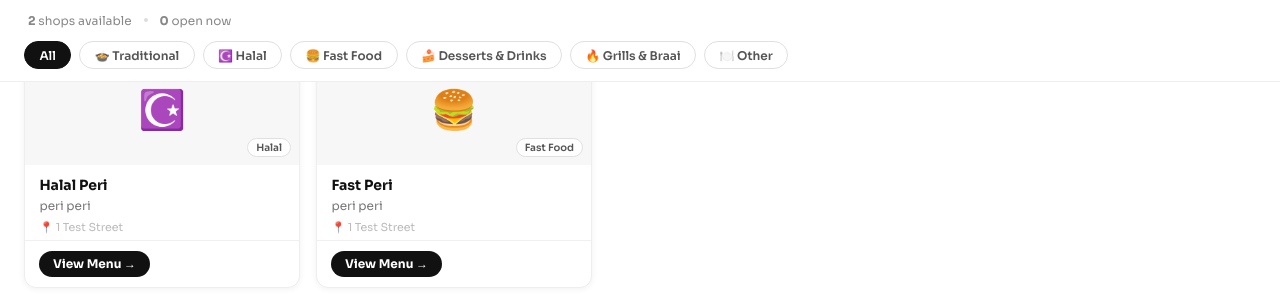
it: Dashboard.js › Search Filtering › search and category filter work together
Check: the heading "Halal Peri" is shown, box left=39, top=176, right=108, bottom=194
Click the button "☪️ Halal" at x=242, y=55, box left=203, top=41, right=282, bottom=69
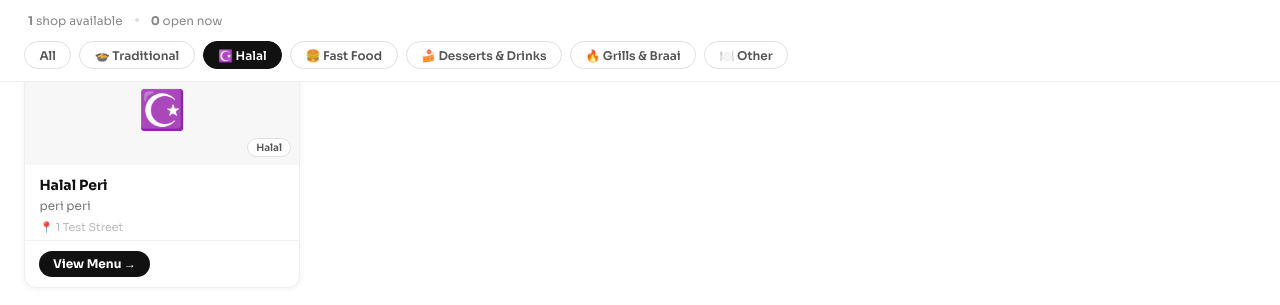
Check: the heading "Halal Peri" is shown, box left=39, top=176, right=108, bottom=194
Check: the heading "Fast Peri" is gone
